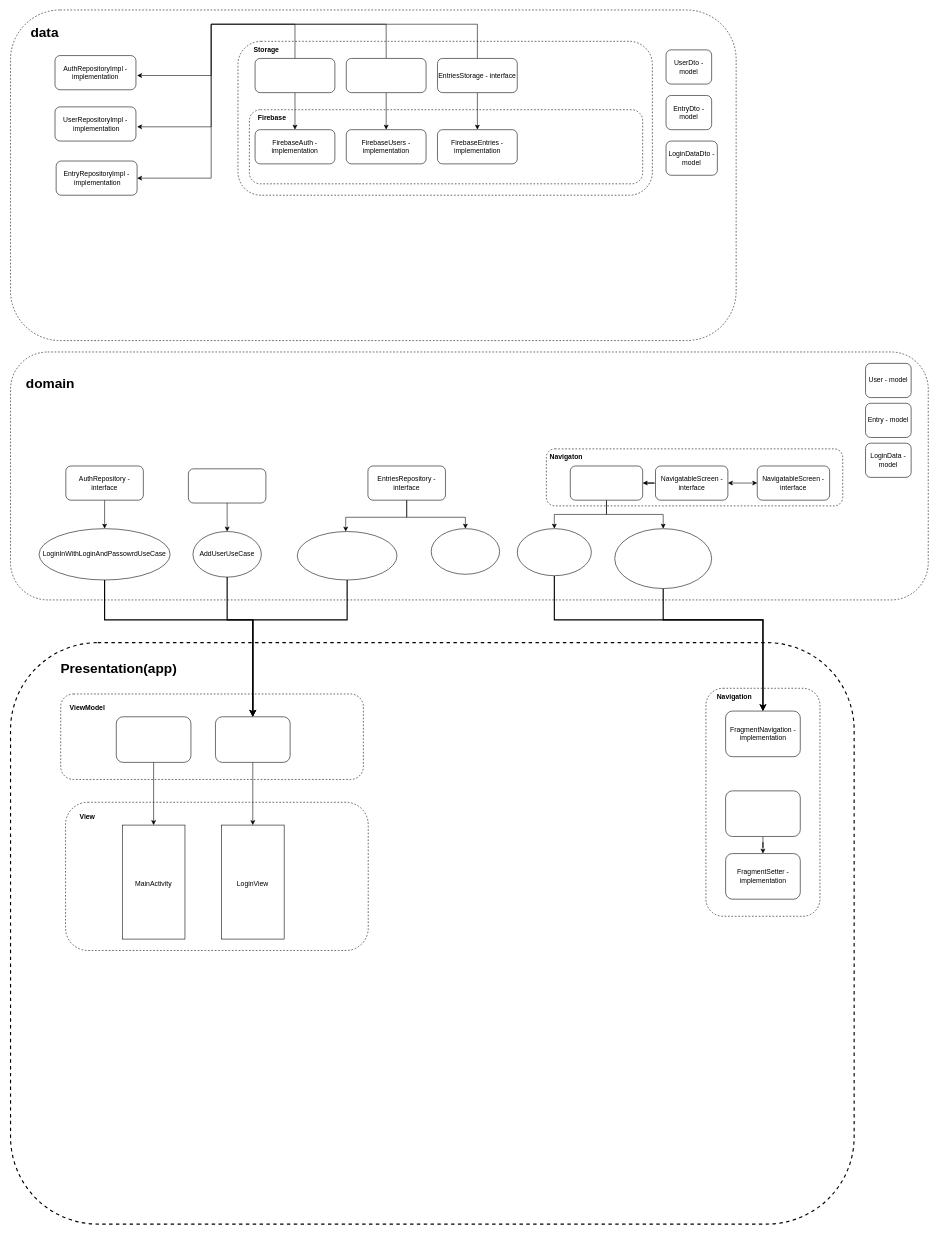
The diagram is 938 pixels wide and 1235 high, and some of its shapes have lost their labels. Each missing label, with the centre of its shape:
"AuthStorage - interface" goes at (295,75).
"LoadEntriesByUserIdUseCase" goes at (347,555).
"LoginViewModel" goes at (252,739).
"MainActivityViewModel" goes at (153,739).
"NavigatableView - implementation" goes at (762,813).
"PopBackFragmentUseCase" goes at (663,558).
"SaveUserEntries" goes at (465,551).
"ScreenSetter - interface" goes at (606,482).
"SetFragmentUseCase" goes at (554,552).
"UserRepository - interface" goes at (227,485).
"UsersStorage - interface" goes at (386,75).
